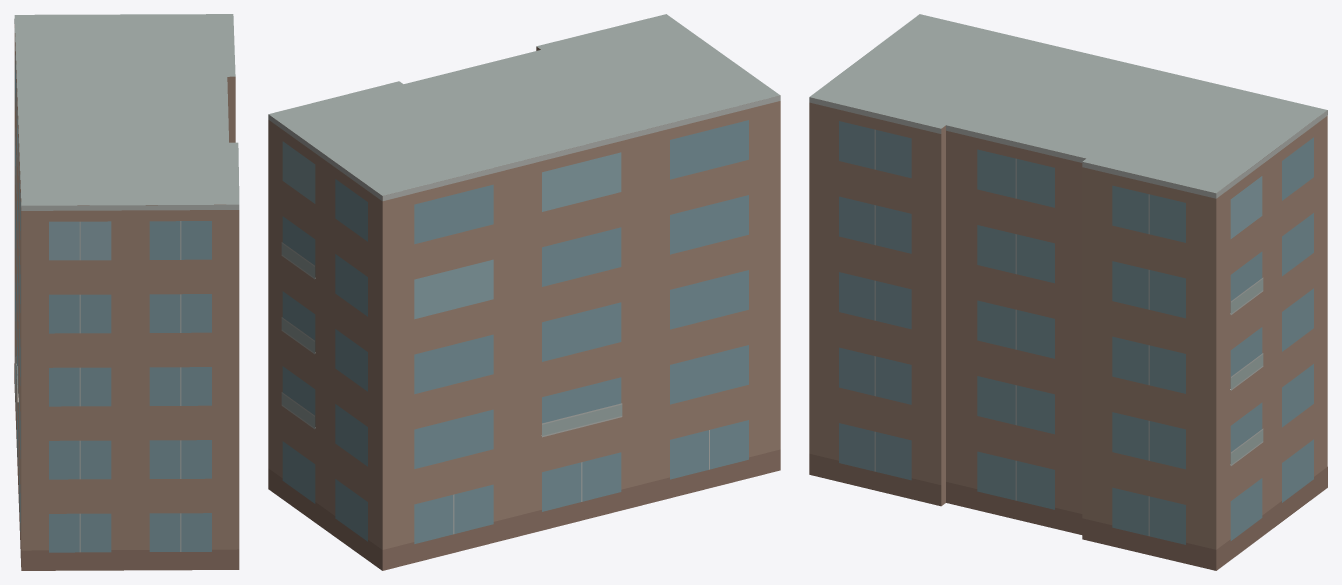
Rendered from survey-upis-32840302.glb.
3 renders of one model, left to right at view 1: azimuth 30°, elevation 25°; view 2: azimuth 150°, elevation 25°; view 3: azimuth 270°, elevation 25°, orthographic. The views are drawn at different scales.
Parts seen in each view (by area): view 1: survey-upis-32840302.tmp; view 2: survey-upis-32840302.tmp; view 3: survey-upis-32840302.tmp.
Boxes of the visible parts, x1,y1,x2,y2 form: survey-upis-32840302.tmp: [14, 14, 239, 570]; survey-upis-32840302.tmp: [268, 14, 780, 570]; survey-upis-32840302.tmp: [809, 14, 1327, 570].
Size of the model in its own units: 17.33 by 17 by 21.17.
